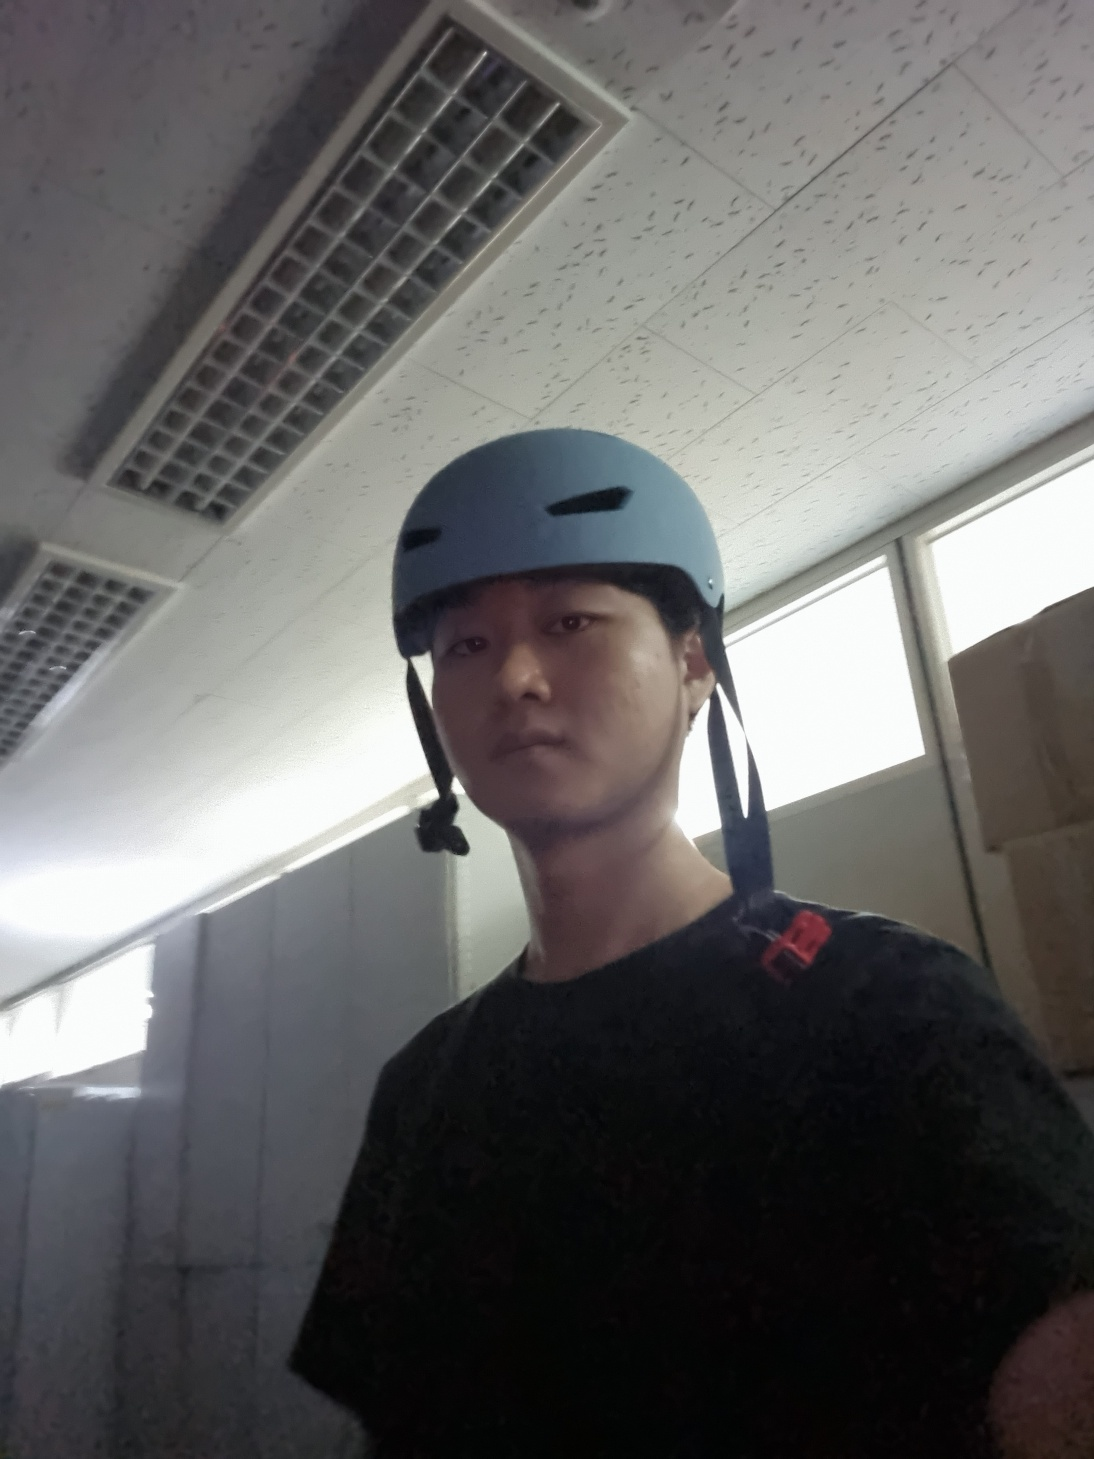Helmet: (319, 396, 835, 885)
